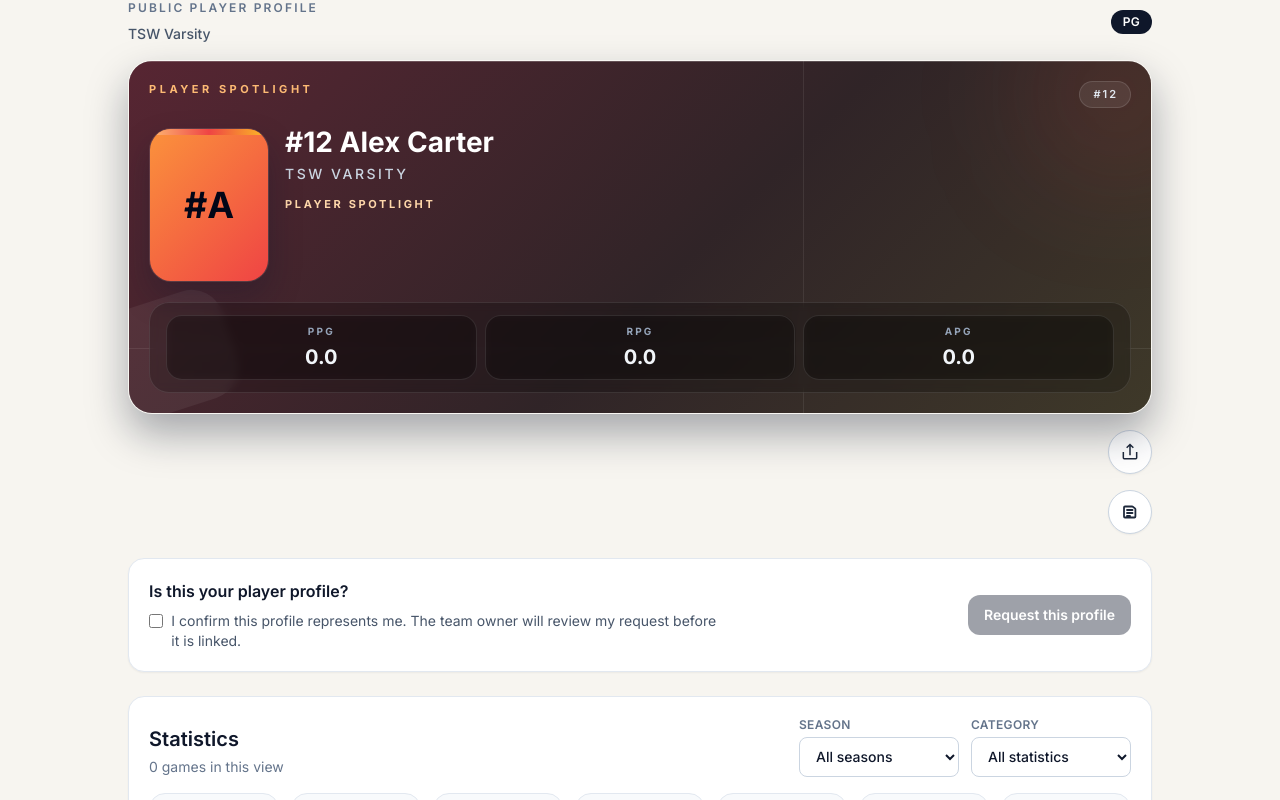
Test: PublicPlayerPage › opens prefilled player composer for logged-in users
Click the button named "Share to The Pulse" at coordinates (1130, 512), box [1108,490,1152,534]
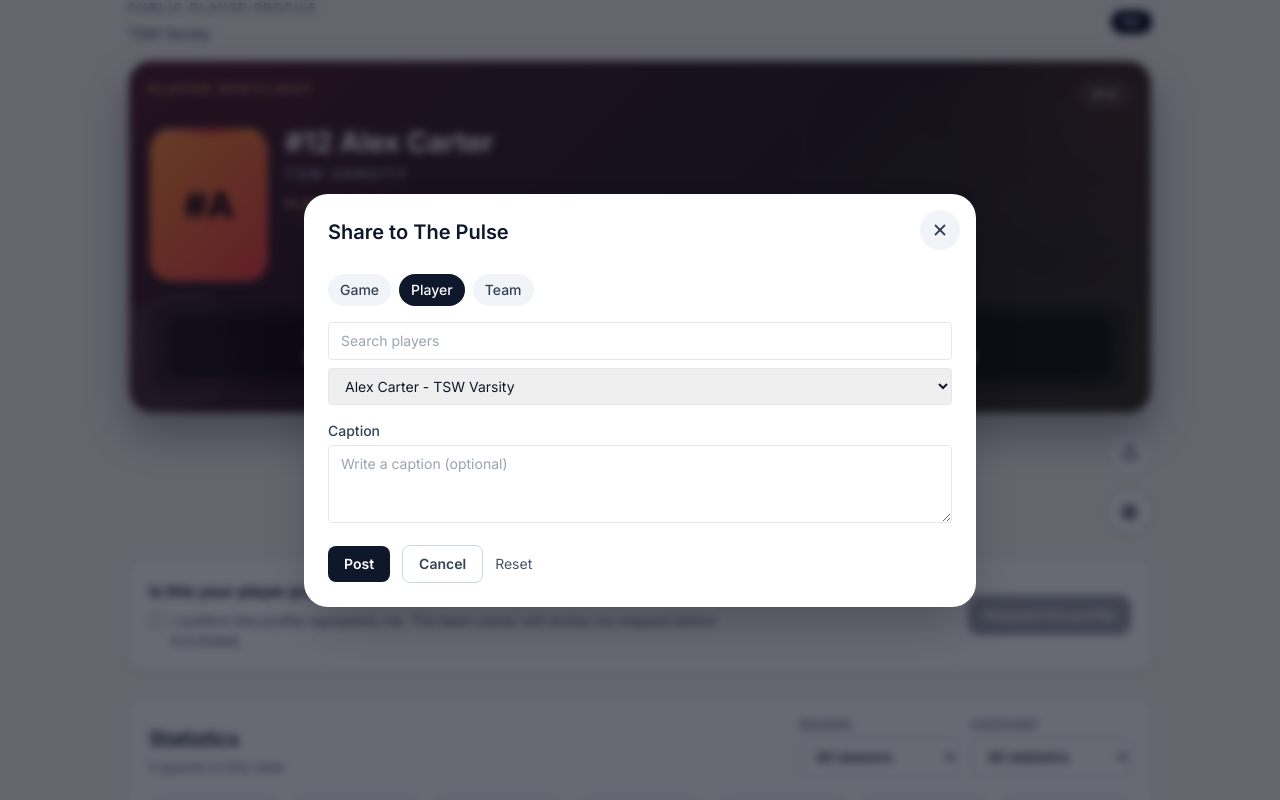
Result: the dialog is shown at [304,194,976,606]
Result: the dropdown named "player-name" shows "Alex Carter - TSW Varsity" at [328,368,952,404]
